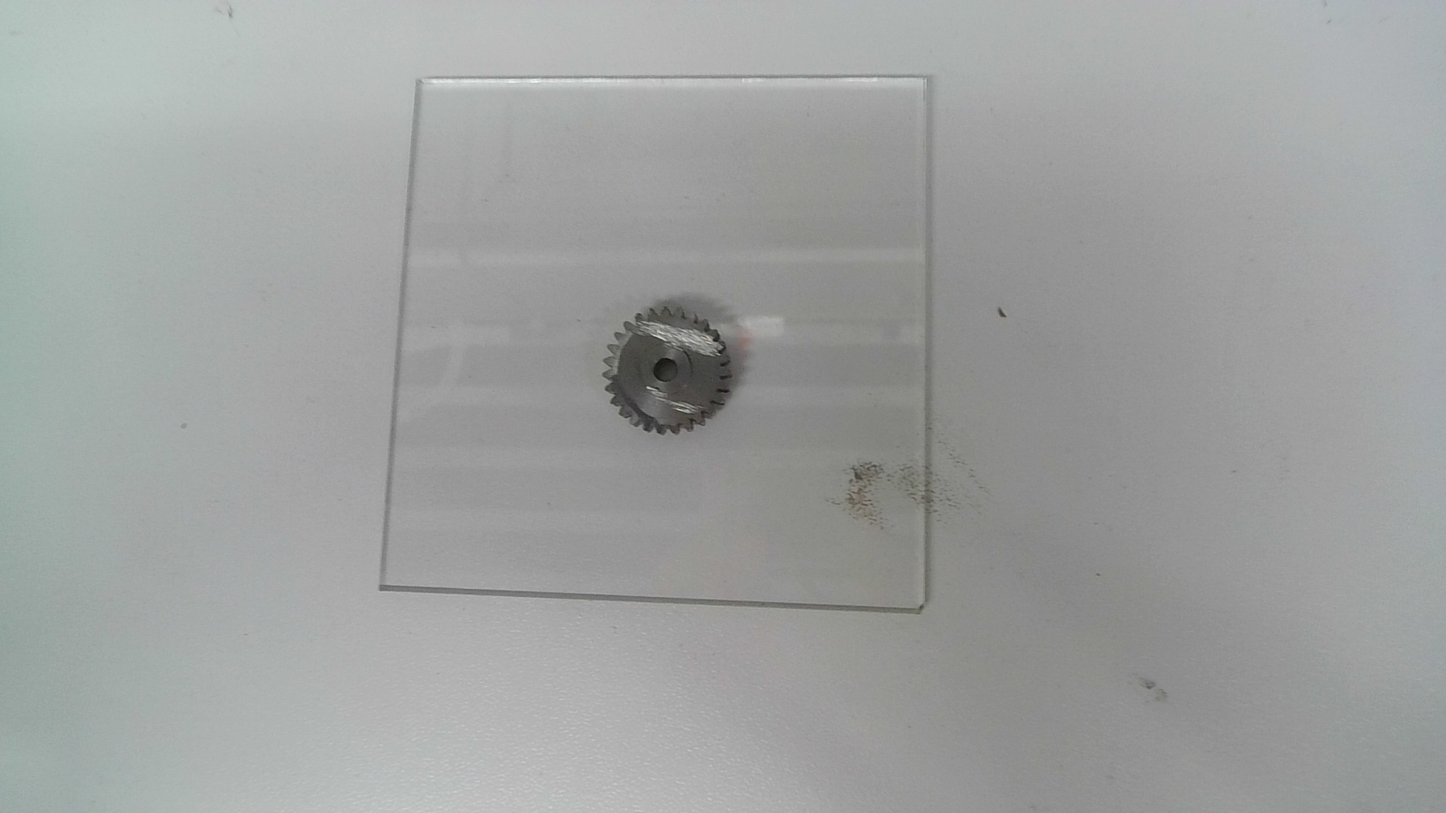gear: (600, 302, 732, 438)
